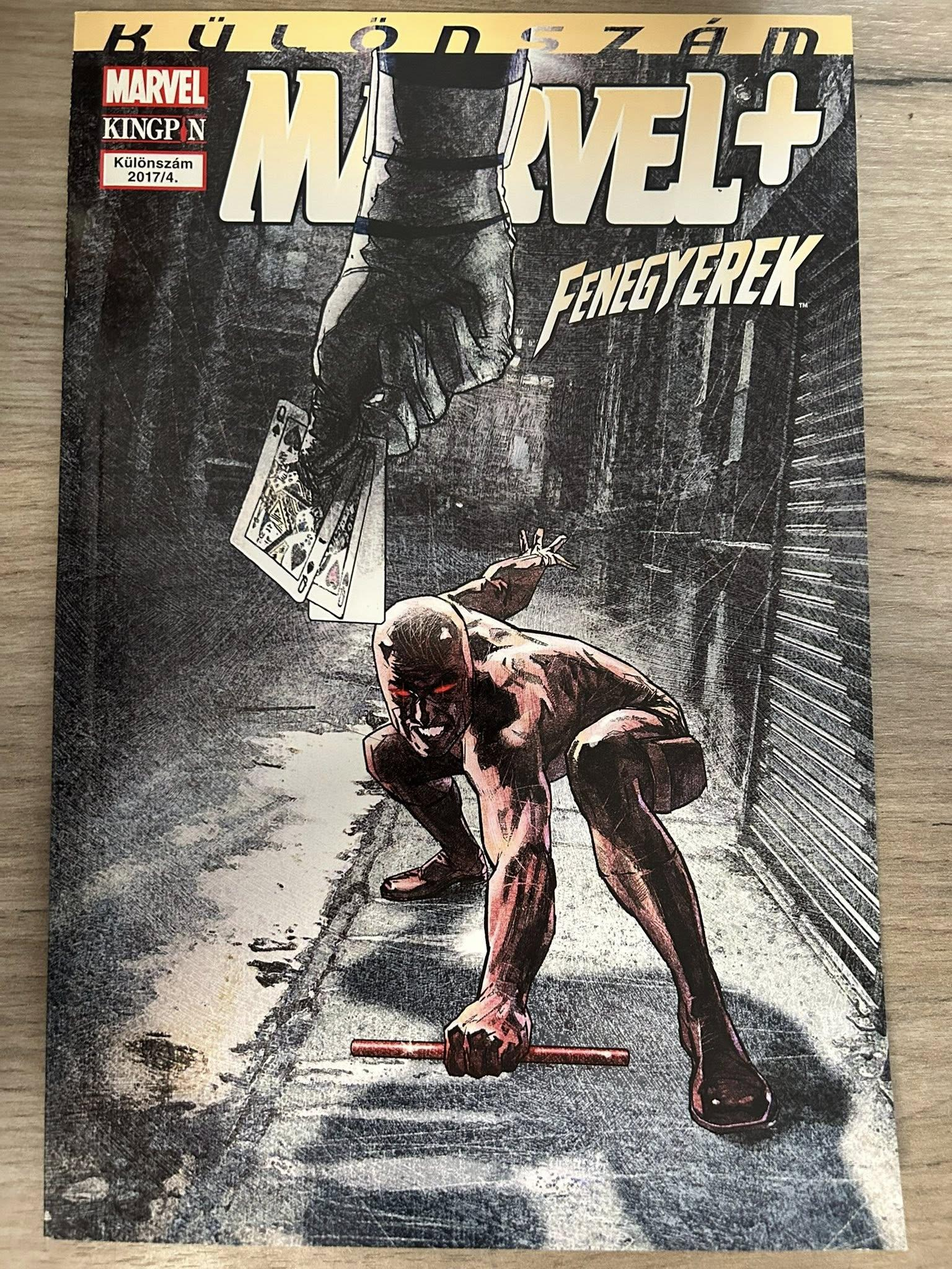comic: (46, 5, 922, 1254)
